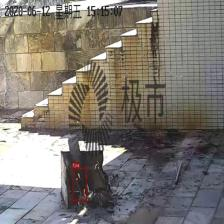fire: (72, 167, 87, 202)
